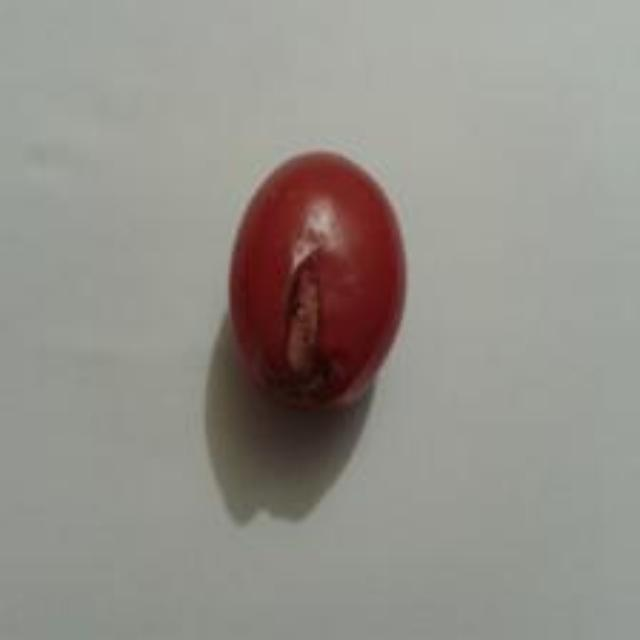defect: (220, 140, 414, 417)
